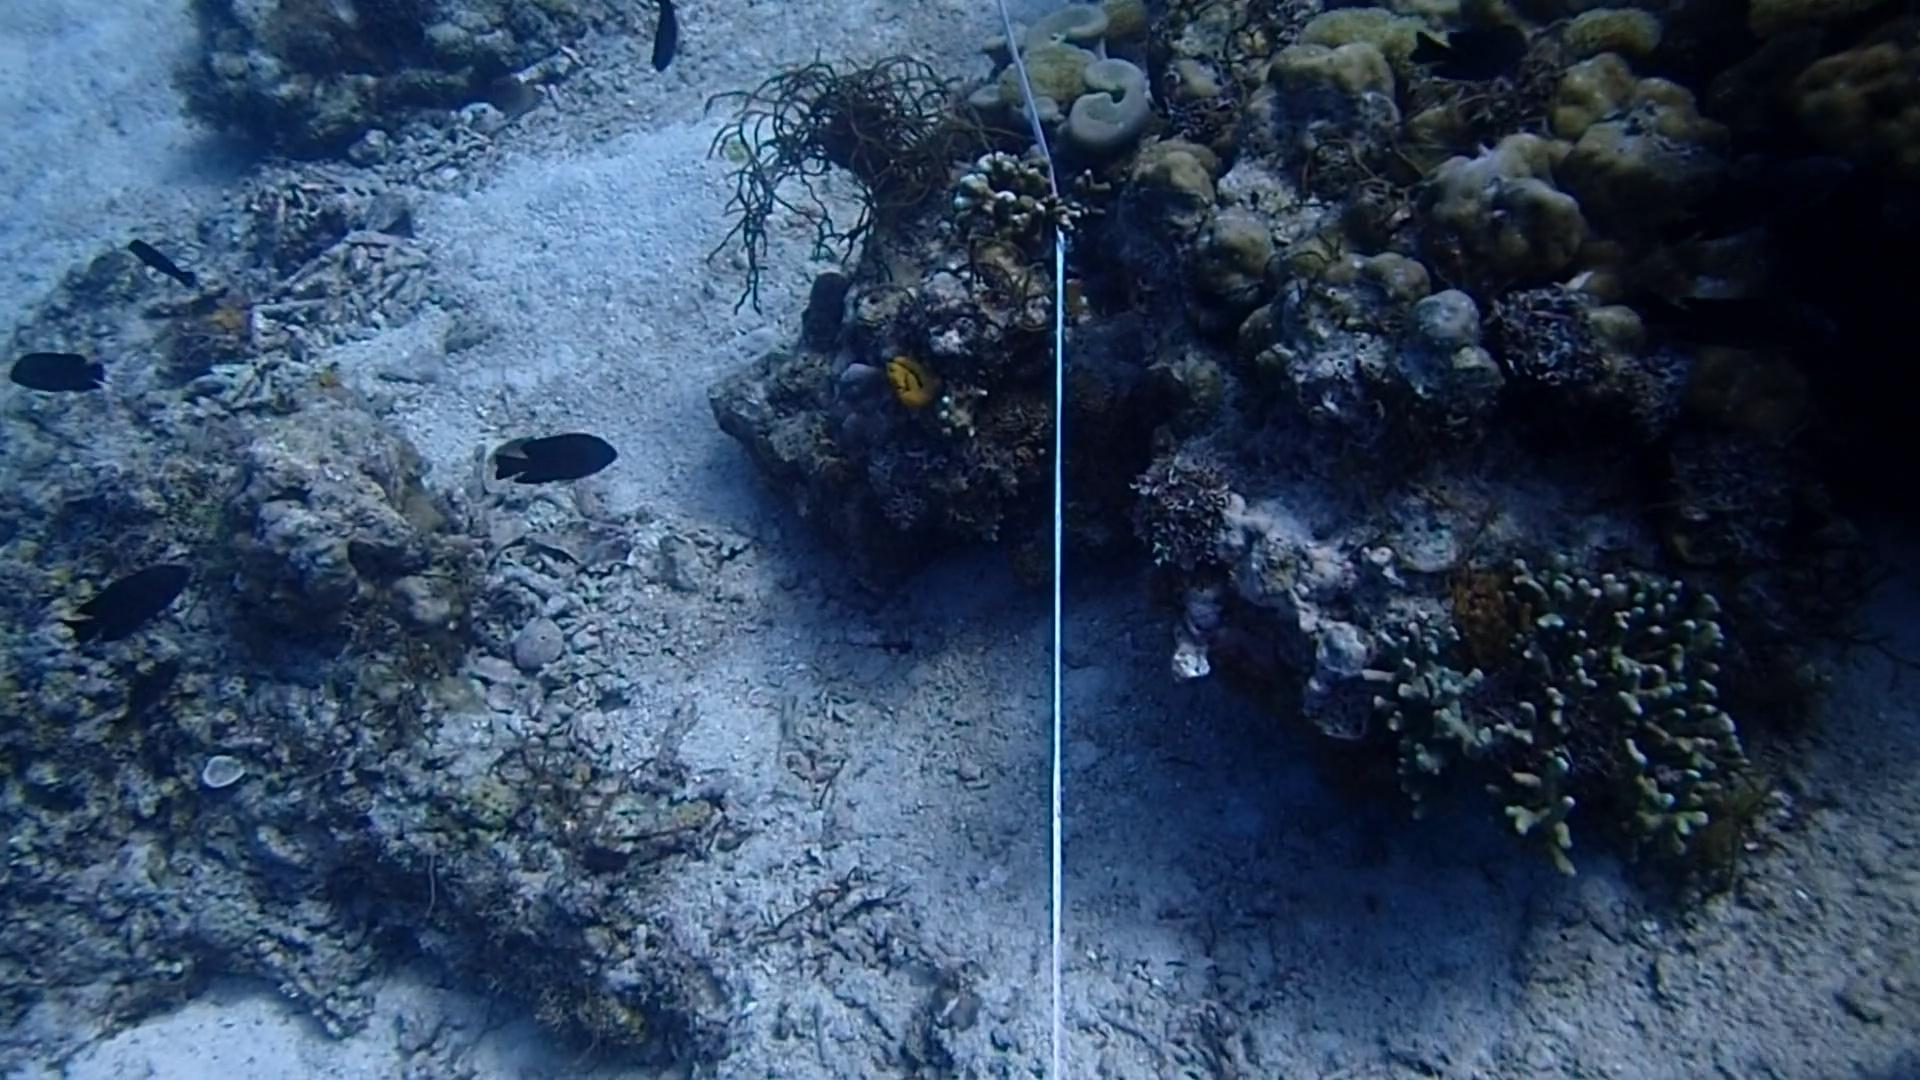Dark Fish: (63, 546, 202, 654), (483, 418, 626, 497), (102, 654, 191, 749), (12, 336, 117, 407), (121, 227, 207, 294), (630, 0, 698, 75)
Light Fish: (488, 63, 545, 116)
